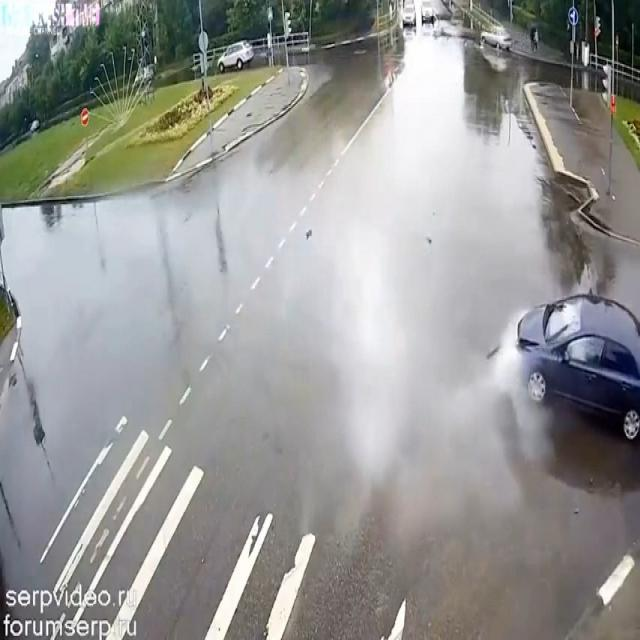Accident: (481, 250, 640, 473)
